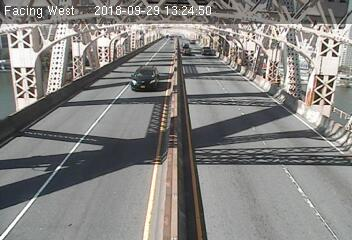car: (128, 64, 165, 91), (200, 45, 210, 56), (181, 46, 191, 56)
